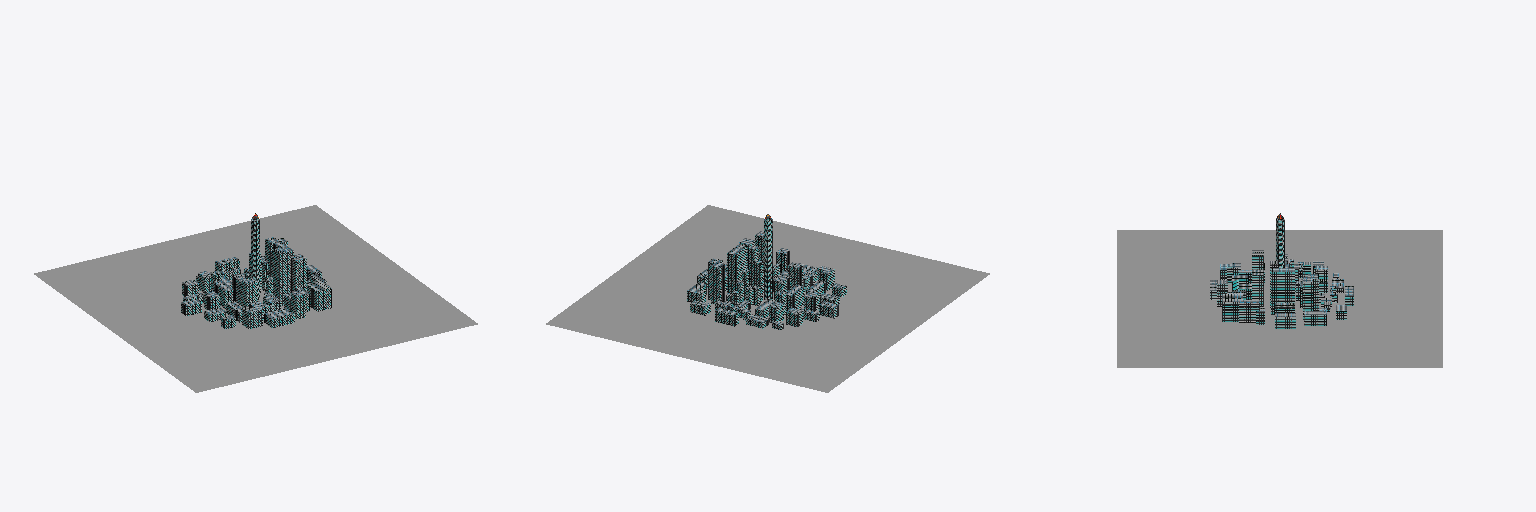
3 renders of one model, left to right at view 1: azimuth 30°, elevation 25°; view 2: azimuth 150°, elevation 25°; view 3: azimuth 270°, elevation 25°, orthographic.
Visible parts, largest first — view 1: Plane, SketchUp_038_ID236.001_Green.002, SketchUp_038_ID236.001_black.002, SketchUp_038_ID236.001_Green.000; view 2: Plane, SketchUp_038_ID236.001_Green.002, SketchUp_038_ID236.001_black.002, SketchUp_038_ID236.001_Green.000; view 3: Plane, SketchUp_038_ID236.001_Green.002, SketchUp_038_ID236.001_black.002.
Boxes of the visible parts, box(x1,y1,x2,y2) form: Plane: box(34, 205, 477, 392); SketchUp_038_ID236.001_Green.002: box(181, 219, 331, 328); SketchUp_038_ID236.001_black.002: box(181, 218, 331, 320); SketchUp_038_ID236.001_Green.000: box(251, 220, 259, 299); Plane: box(546, 205, 989, 392); SketchUp_038_ID236.001_Green.002: box(687, 219, 846, 329); SketchUp_038_ID236.001_black.002: box(687, 218, 845, 324); SketchUp_038_ID236.001_Green.000: box(764, 220, 772, 299); Plane: box(1117, 230, 1442, 367); SketchUp_038_ID236.001_Green.002: box(1210, 219, 1353, 328); SketchUp_038_ID236.001_black.002: box(1210, 218, 1353, 316).
Bounding box in the file's own units: 176 × 51.03 × 176.
5 materials, 3 textured.